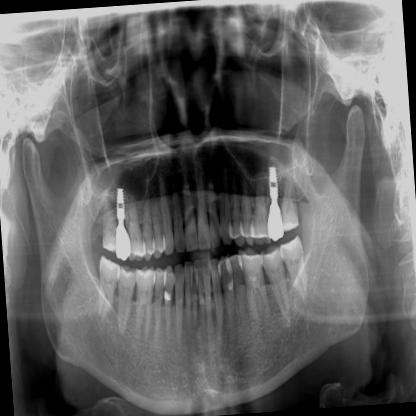Bicon: (110, 184, 131, 226), (262, 160, 282, 202)
